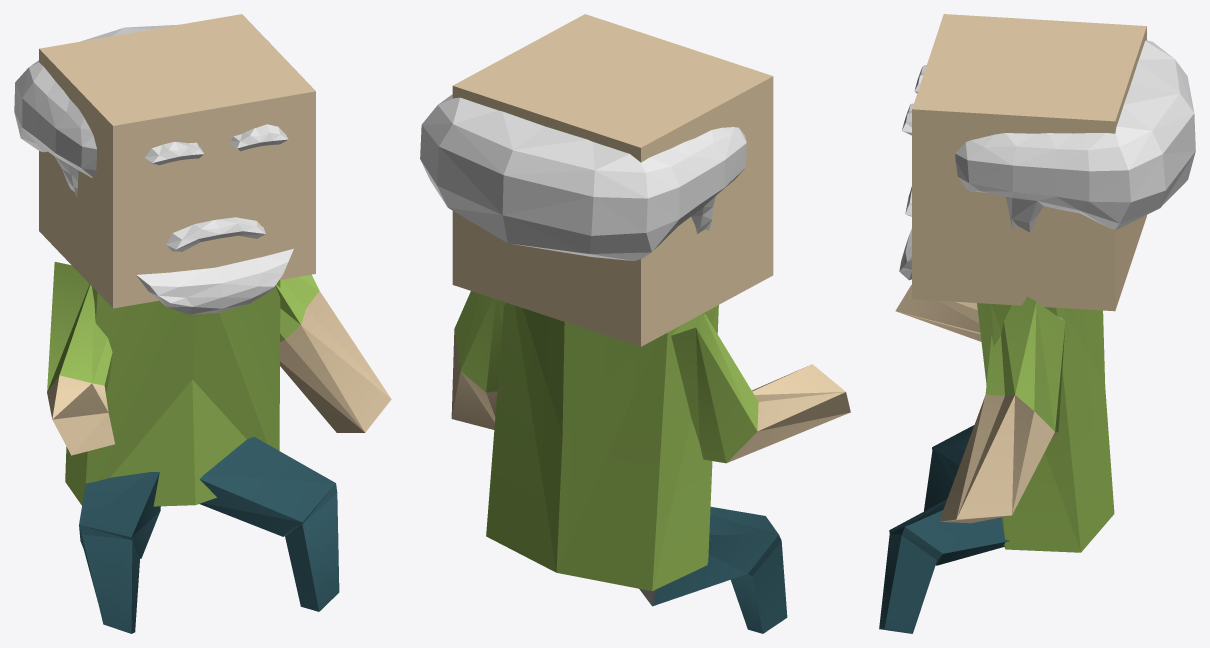
The model's file is oldmanexport.fbx.
The picture shows the model from 3 angles, left to right: view 1: azimuth 30°, elevation 25°; view 2: azimuth 150°, elevation 25°; view 3: azimuth 270°, elevation 25°; orthographic projection. The views are drawn at different scales.
Parts seen in each view (by area): view 1: oldmanmaya:polySurface1; view 2: oldmanmaya:polySurface1; view 3: oldmanmaya:polySurface1.
Part boxes in pixels (bbox=[...]): oldmanmaya:polySurface1: bbox=[14, 14, 391, 633]; oldmanmaya:polySurface1: bbox=[420, 14, 850, 633]; oldmanmaya:polySurface1: bbox=[879, 14, 1195, 633].
Bounding box in the file's own units: 331 × 465 × 250.
